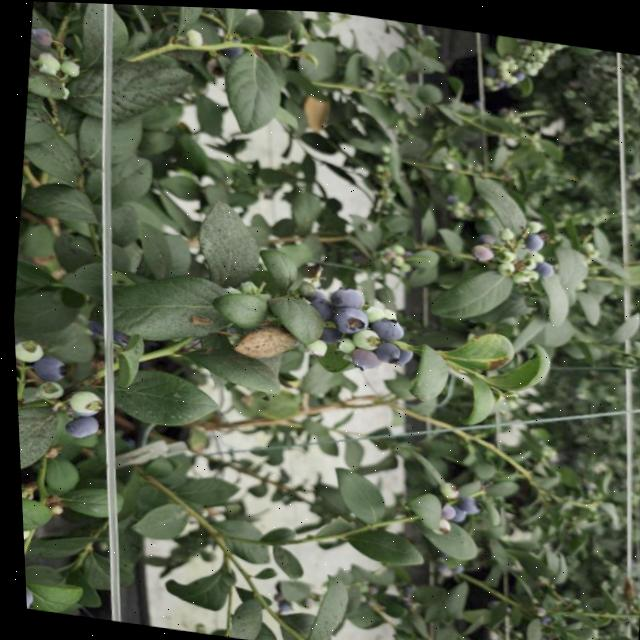RipeBlueBerry: (326, 301, 367, 333), (26, 354, 66, 385), (364, 312, 403, 341), (57, 411, 96, 440), (325, 282, 363, 307), (369, 337, 397, 361), (450, 490, 477, 512), (519, 227, 542, 249), (530, 255, 551, 276)
Semi-RipeBlueBerry: (343, 344, 377, 368), (28, 27, 54, 48), (466, 240, 491, 259), (431, 499, 449, 517)
UnripeBlueBerry: (63, 387, 100, 416), (346, 324, 379, 349), (12, 336, 41, 364), (30, 378, 60, 399), (35, 49, 59, 72), (298, 335, 324, 356), (181, 26, 204, 46), (57, 57, 80, 76), (330, 333, 352, 350), (494, 221, 513, 238), (433, 478, 452, 494), (493, 258, 512, 273), (516, 252, 531, 266)
